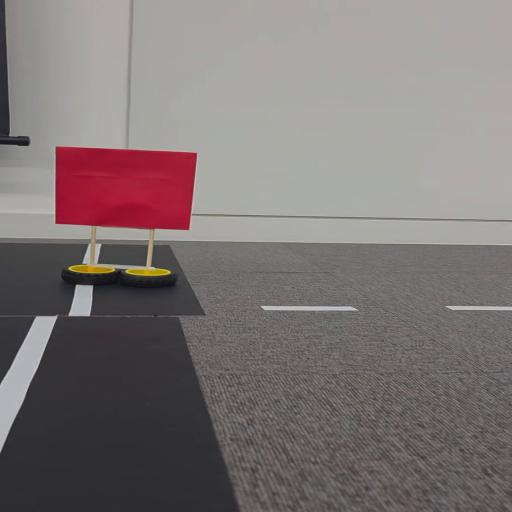Sign_A: (38, 146, 202, 290)
